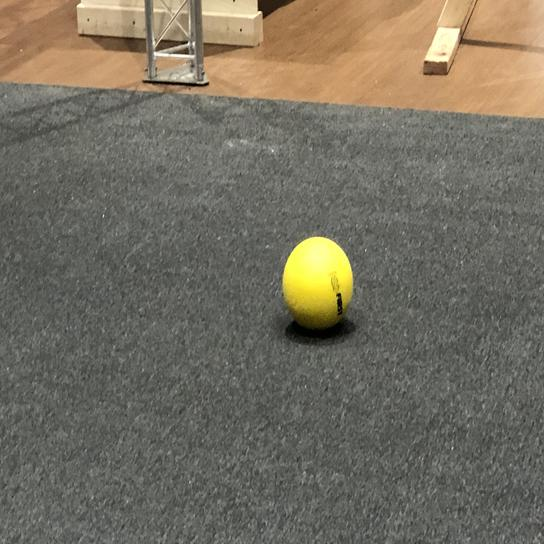ball: (277, 233, 354, 334)
